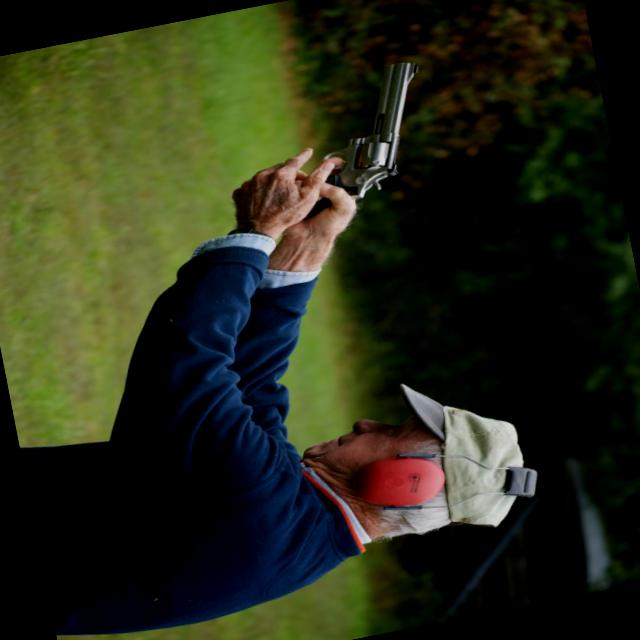handgun: (198, 54, 452, 245)
